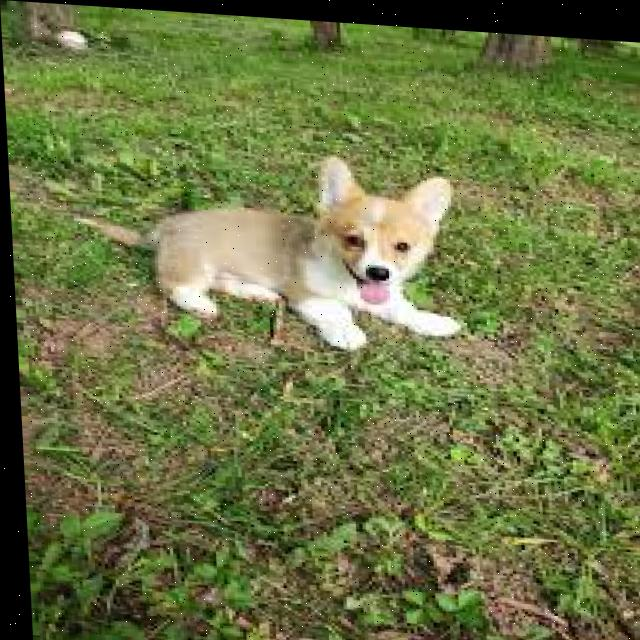CORGI: (58, 132, 481, 373)
